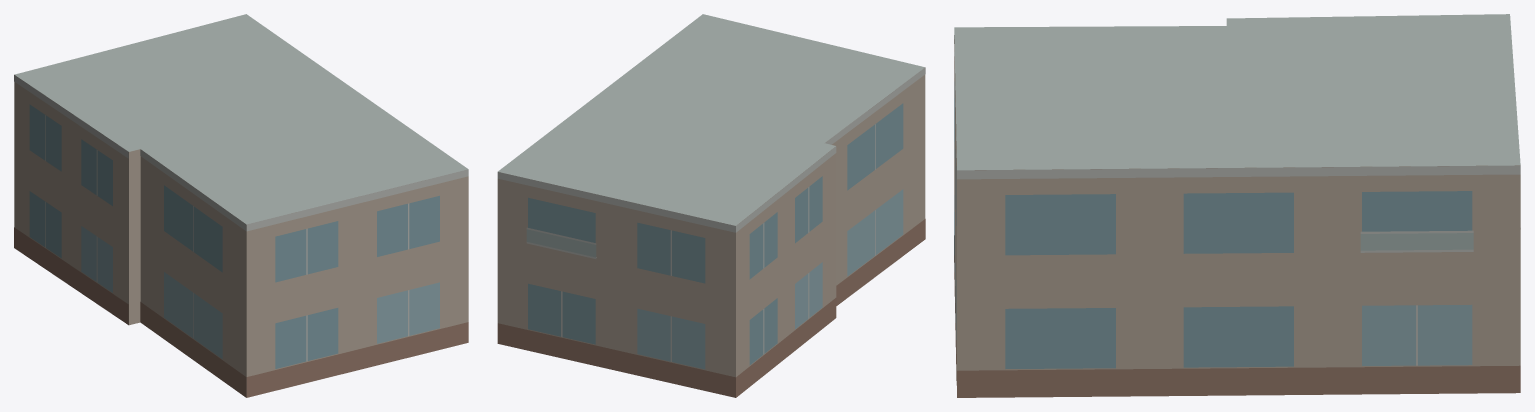
Rendered from survey-upis-33035922.glb.
The picture shows the model from 3 angles, left to right: view 1: azimuth 30°, elevation 25°; view 2: azimuth 150°, elevation 25°; view 3: azimuth 270°, elevation 25°; orthographic projection. The views are drawn at different scales.
Visible parts, largest first — view 1: survey-upis-33035922.tmp; view 2: survey-upis-33035922.tmp; view 3: survey-upis-33035922.tmp.
Boxes of the visible parts, x1,y1,x2,y2 form: survey-upis-33035922.tmp: (14,14,468,397); survey-upis-33035922.tmp: (497,14,925,397); survey-upis-33035922.tmp: (954,14,1520,397).
Size of the model in its own units: 8.99 by 6.1 by 13.77.
